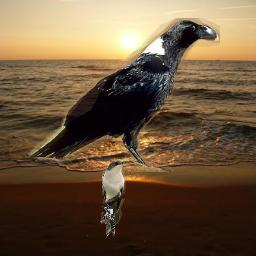Crow: (28, 18, 220, 172)
Cuckoo: (102, 160, 130, 225)
Woodpecker: (100, 206, 115, 238)
